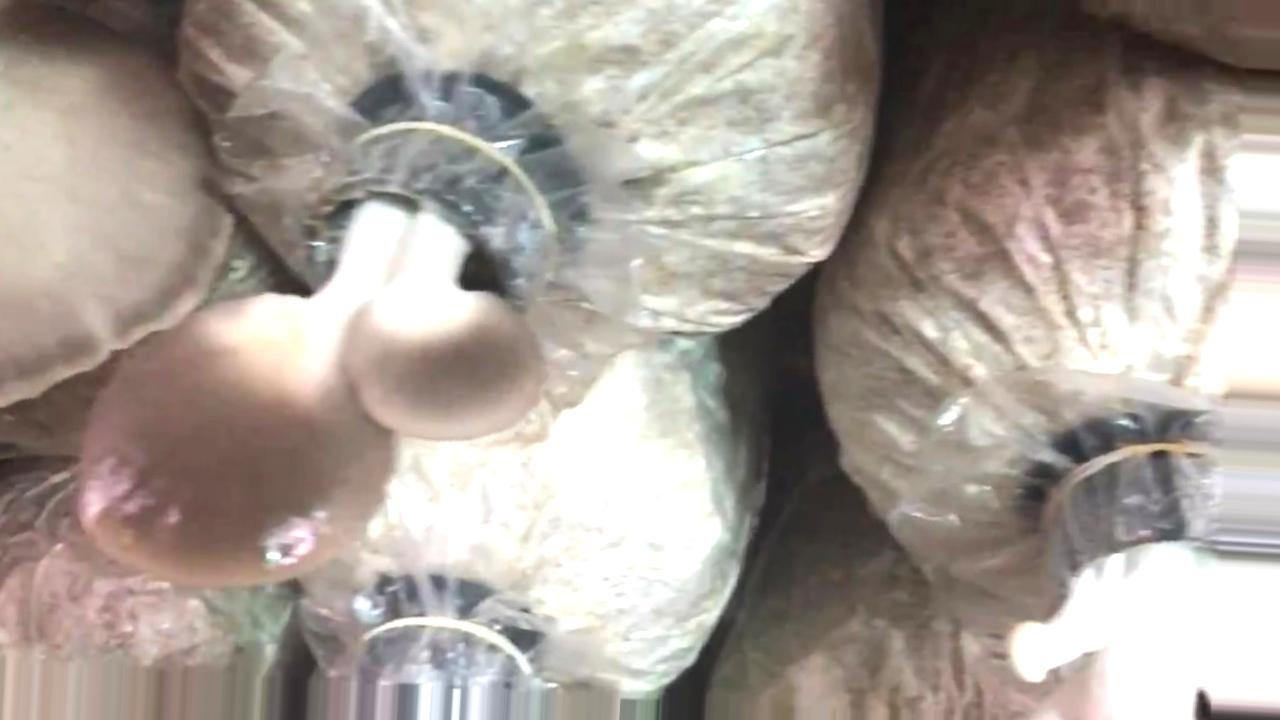nam: (67, 127, 570, 592)
